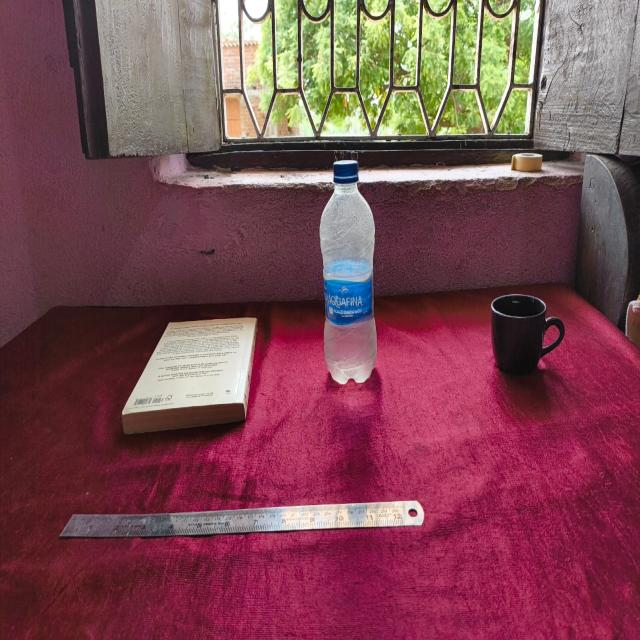Book: (121, 313, 263, 434)
Bottle: (318, 159, 379, 386)
Cup: (487, 295, 564, 374)
scale: (62, 498, 424, 539)
